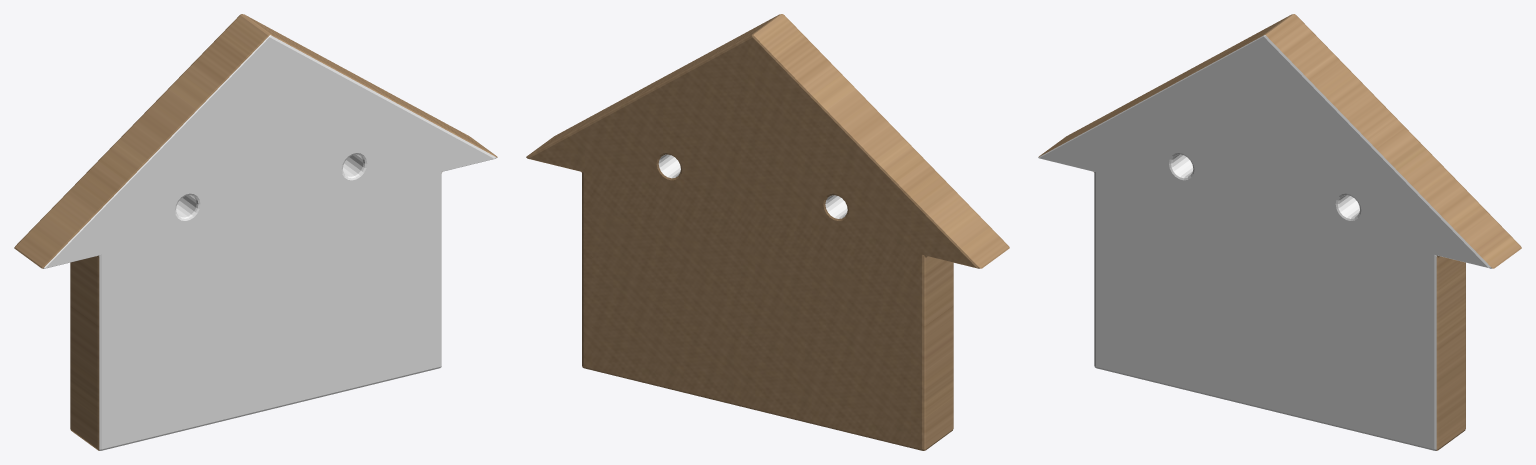
3 renders of one model, left to right at view 1: azimuth 30°, elevation 25°; view 2: azimuth 150°, elevation 25°; view 3: azimuth 330°, elevation 25°, orthographic.
Visible parts, largest first — view 1: Haustierschild in Hausform; view 2: Haustierschild in Hausform; view 3: Haustierschild in Hausform.
Part boxes in pixels (left/top/right/bottom): Haustierschild in Hausform: left=14, top=14, right=497, bottom=450; Haustierschild in Hausform: left=526, top=14, right=1009, bottom=450; Haustierschild in Hausform: left=1038, top=14, right=1521, bottom=450.
Bounding box in the file's own units: 0.035 × 0.0275 × 0.004.
2 materials, 1 textured.
